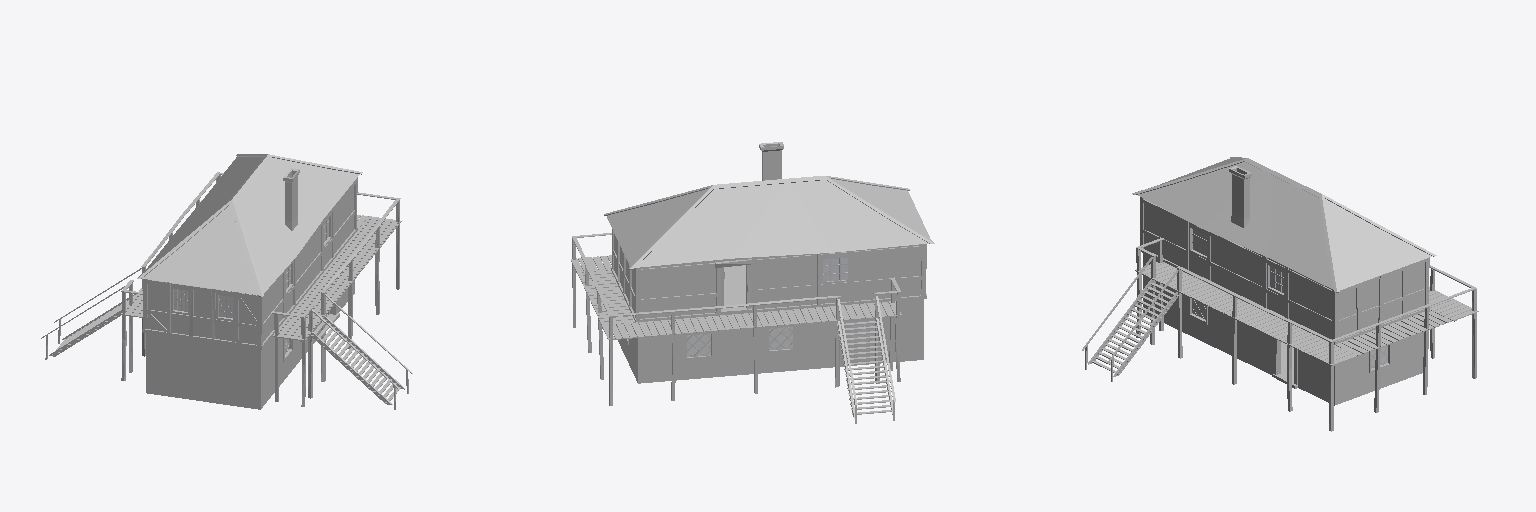
The picture shows the model from 3 angles: view 1: azimuth 30°, elevation 25°; view 2: azimuth 150°, elevation 25°; view 3: azimuth 270°, elevation 25°; orthographic projection.
Parts seen in each view (by area): view 1: House_Cube.020, Glass_Cube.026; view 2: House_Cube.020, Glass_Cube.026; view 3: House_Cube.020, Glass_Cube.026.
Boxes of the visible parts, box(x1,y1,x2,y2) form: House_Cube.020: box(41, 154, 412, 409); Glass_Cube.026: box(174, 218, 328, 353); House_Cube.020: box(571, 142, 934, 423); Glass_Cube.026: box(687, 258, 874, 356); House_Cube.020: box(1082, 157, 1478, 431); Glass_Cube.026: box(1192, 229, 1387, 368).
Bounding box in the file's own units: 7.2 × 3.73 × 7.22.
Materials: 2 (1 with a texture image).